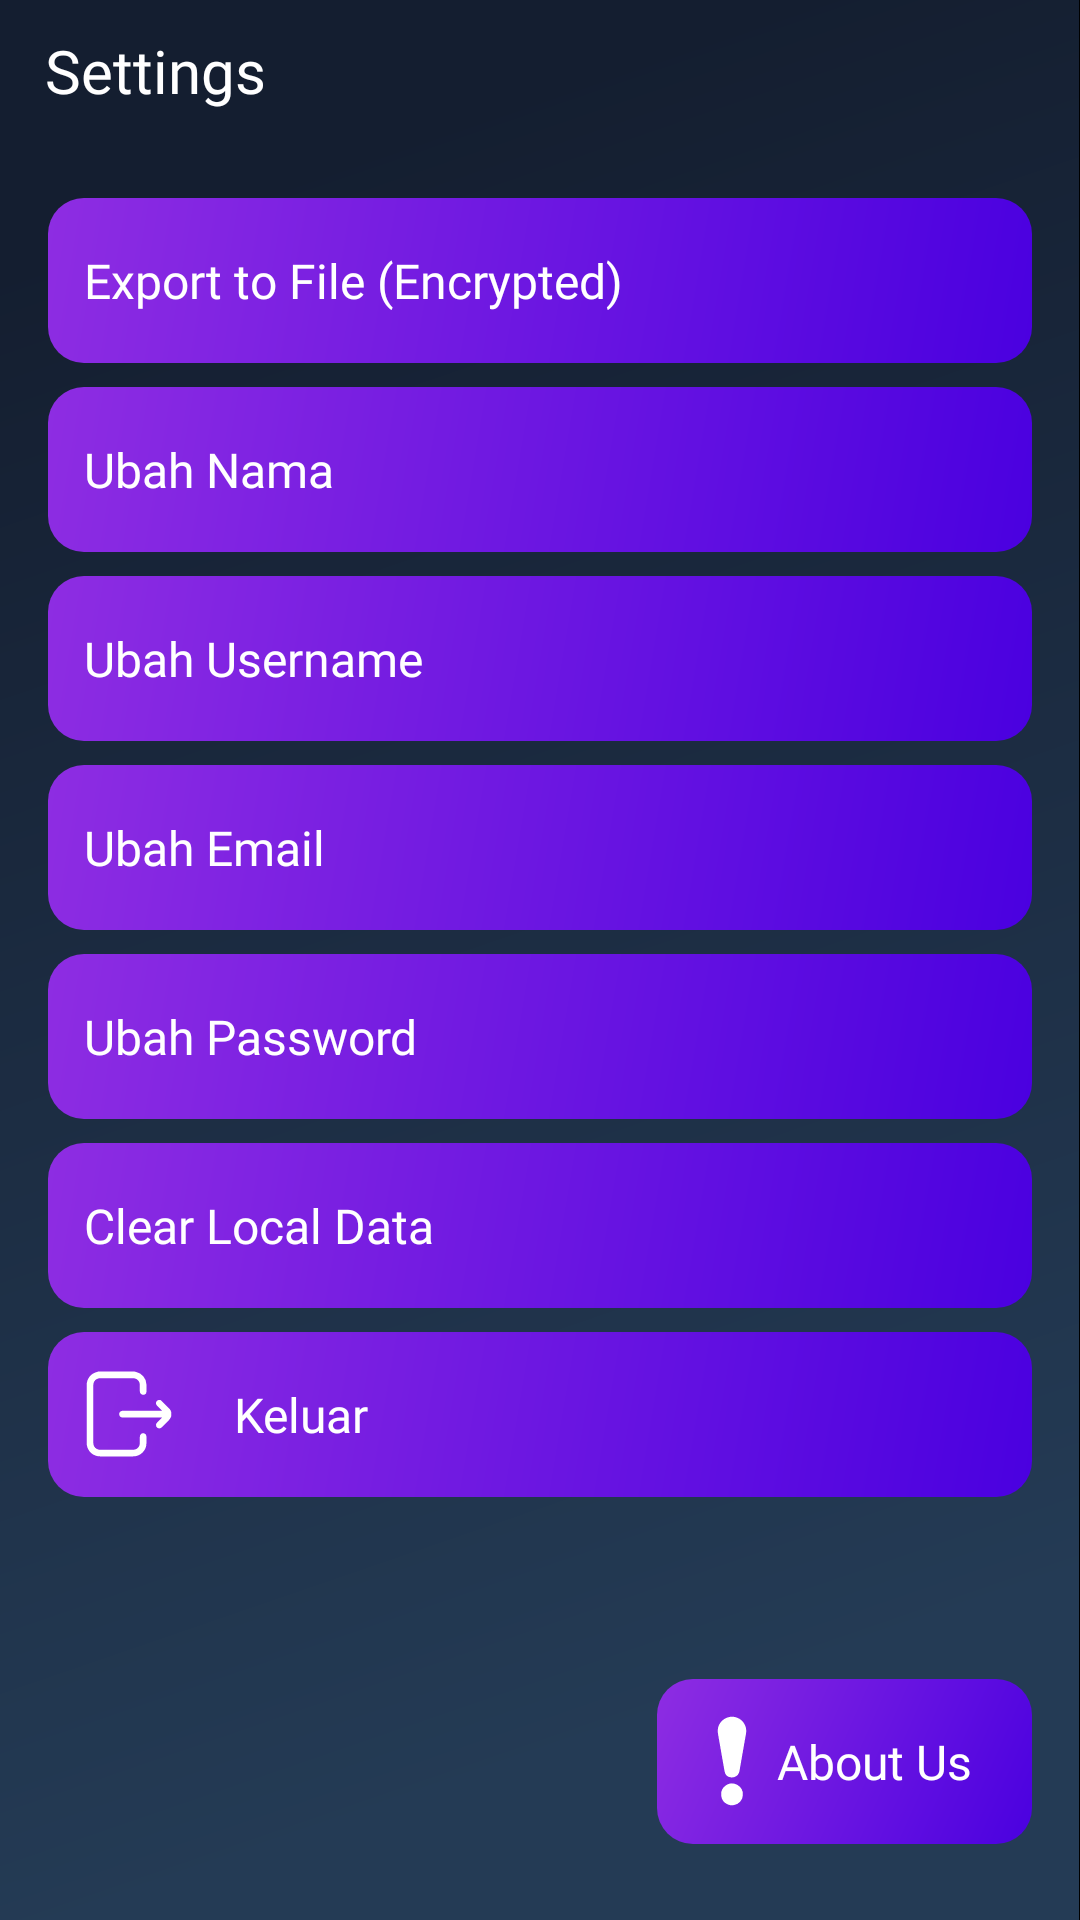

Screen size 1080w x 1920h. Icon name, then its box in pixels as (x1, y1, x2, y2):
tanda seru: (717, 1716, 747, 1806)
